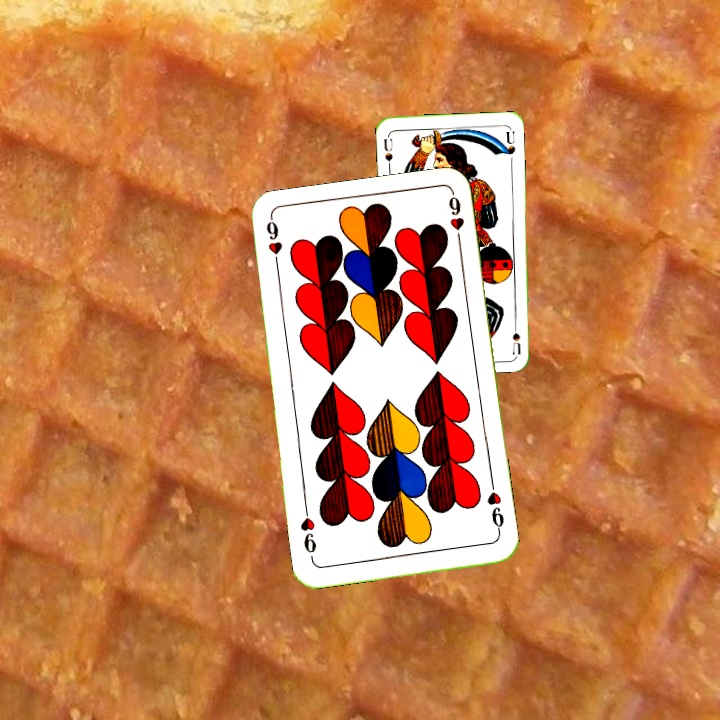H9: (483, 478, 507, 537), (262, 216, 283, 275)
SU: (380, 131, 395, 171), (508, 315, 523, 355)
